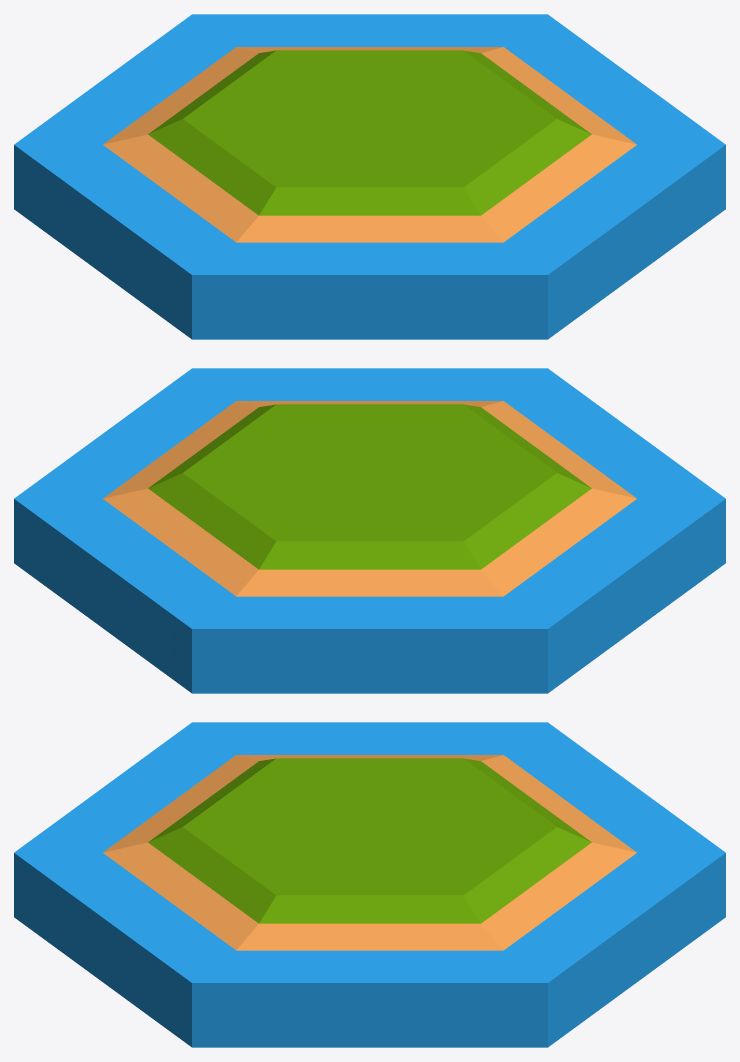
Rendered from TileHex_17.fbx.
The picture shows the model from 3 angles, top to bottom: view 1: azimuth 30°, elevation 25°; view 2: azimuth 150°, elevation 25°; view 3: azimuth 270°, elevation 25°; orthographic projection.
Parts seen in each view (by area): view 1: TileHex_17; view 2: TileHex_17; view 3: TileHex_17.
Part boxes in pixels (x1,y1,x2,y2): TileHex_17: (14,14,725,339); TileHex_17: (14,368,725,693); TileHex_17: (14,722,725,1047).
Bounding box in the file's own units: 433 × 69.96 × 500.
